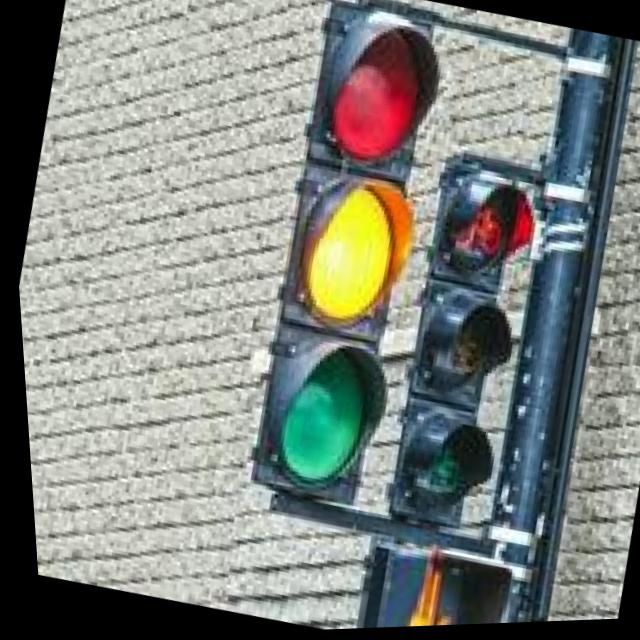green_light: (220, 323, 422, 541)
red_light: (287, 6, 512, 188)
yellow_light: (212, 146, 479, 357)
